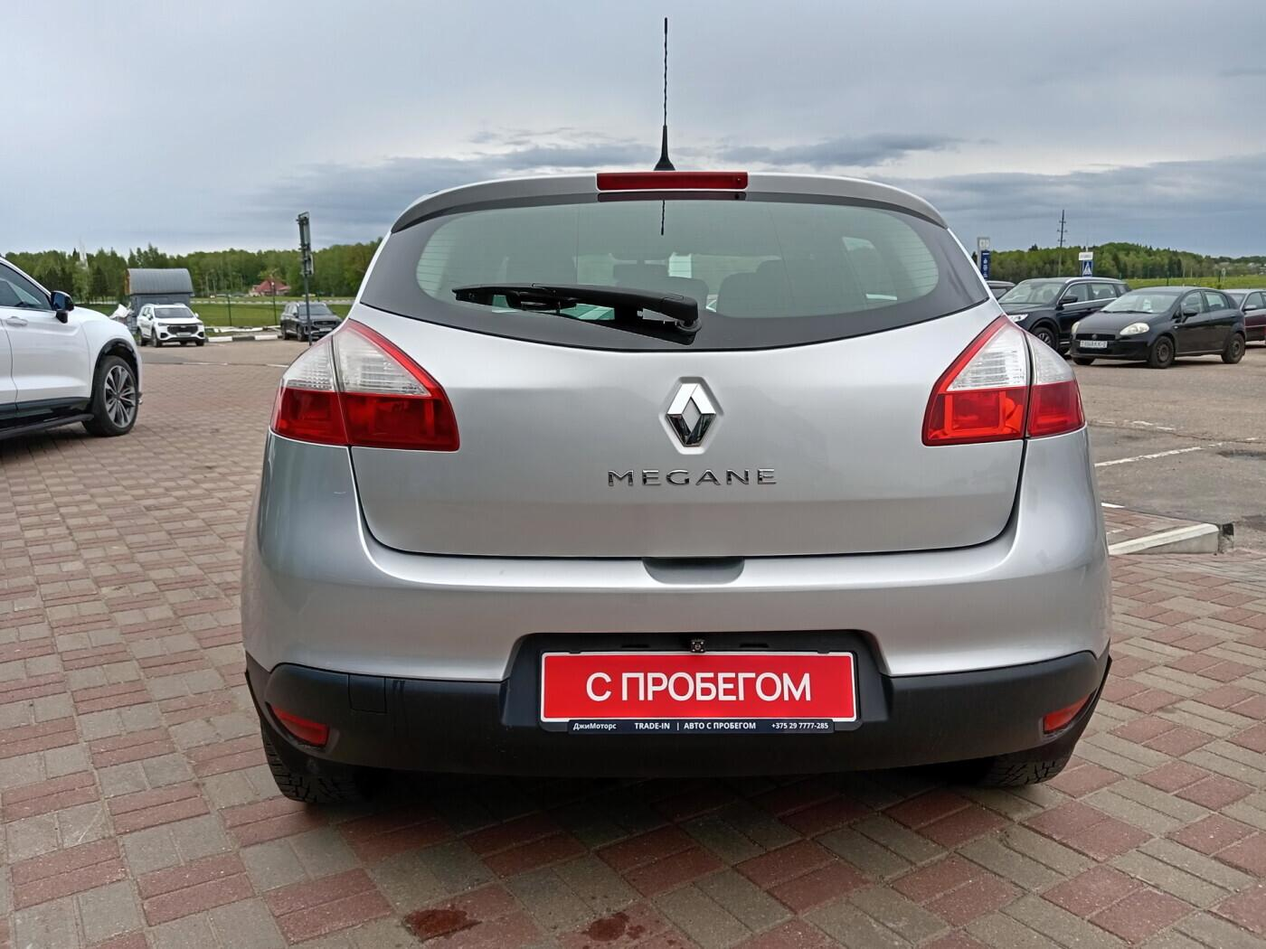Megane_2012-2014: (238, 164, 1124, 817)
